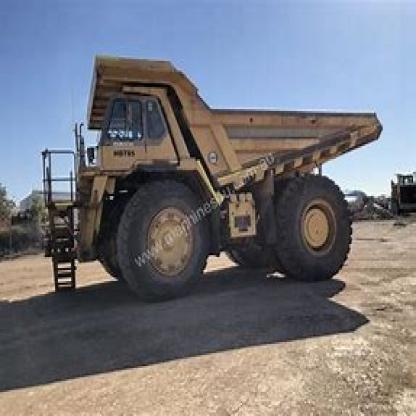dump_truck: (39, 48, 383, 300)
